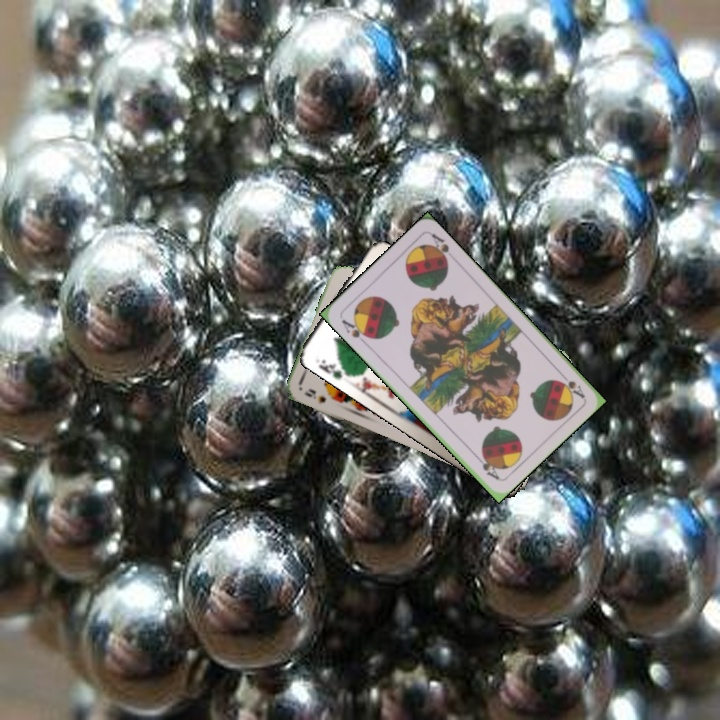GK: (314, 355, 349, 382)
S9: (300, 385, 329, 407)
SA: (554, 367, 587, 401), (338, 315, 373, 347)
